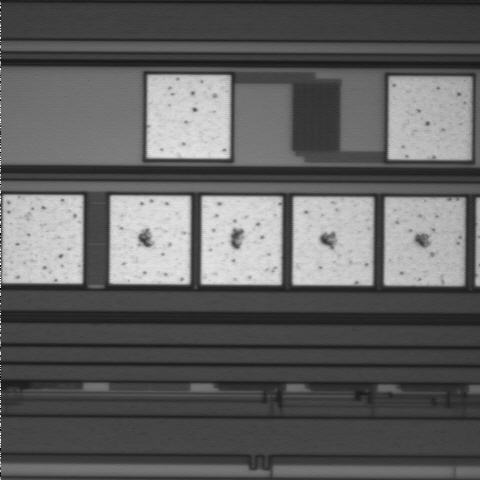pad: (201, 196, 282, 285), (3, 195, 83, 283), (110, 196, 190, 284), (293, 197, 373, 285), (147, 75, 230, 158), (385, 198, 464, 285), (389, 78, 469, 159)
